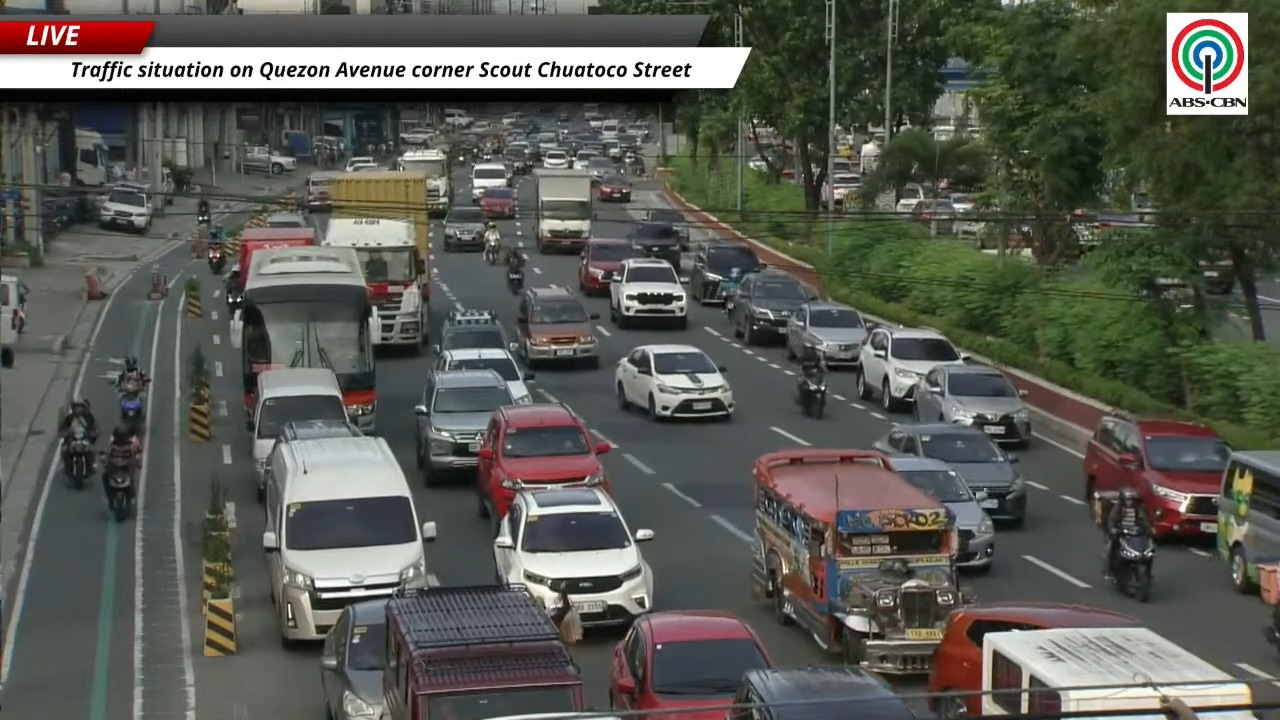bus: (231, 246, 377, 431)
car: (929, 601, 1141, 719), (493, 487, 653, 626), (1083, 413, 1229, 537), (609, 610, 773, 719), (476, 403, 611, 523), (874, 423, 1027, 527), (891, 456, 997, 569), (414, 369, 514, 485), (725, 665, 918, 719), (913, 364, 1031, 444), (855, 326, 965, 411), (615, 345, 734, 419), (320, 598, 387, 719), (517, 285, 598, 368), (726, 270, 809, 345), (609, 257, 687, 328), (786, 300, 867, 367), (435, 348, 533, 403), (689, 241, 765, 304), (432, 309, 515, 354), (578, 238, 633, 295), (628, 223, 681, 270), (443, 205, 485, 251), (470, 162, 513, 204), (646, 208, 688, 250), (912, 198, 956, 234), (823, 172, 862, 207), (593, 173, 631, 202), (480, 188, 515, 218), (895, 183, 925, 214), (503, 143, 529, 173), (586, 157, 616, 178), (265, 213, 309, 227), (399, 127, 435, 144), (948, 194, 976, 215), (542, 149, 571, 169), (572, 148, 601, 168), (344, 156, 376, 171), (617, 133, 640, 153), (603, 137, 622, 161), (626, 123, 649, 141), (501, 113, 524, 126), (350, 163, 383, 172)
motorcycle: (1111, 530, 1155, 602), (63, 429, 93, 489), (104, 464, 133, 522), (119, 379, 146, 435), (797, 373, 827, 418), (1264, 606, 1279, 649), (208, 248, 227, 275), (507, 267, 523, 294), (484, 238, 500, 264), (197, 207, 211, 225)
truck: (751, 448, 971, 674), (382, 585, 583, 719), (982, 627, 1254, 719), (329, 170, 429, 346), (323, 218, 428, 350), (533, 169, 593, 252), (396, 148, 452, 218), (238, 227, 316, 277), (0, 275, 24, 366), (75, 127, 109, 186), (241, 146, 296, 175)
